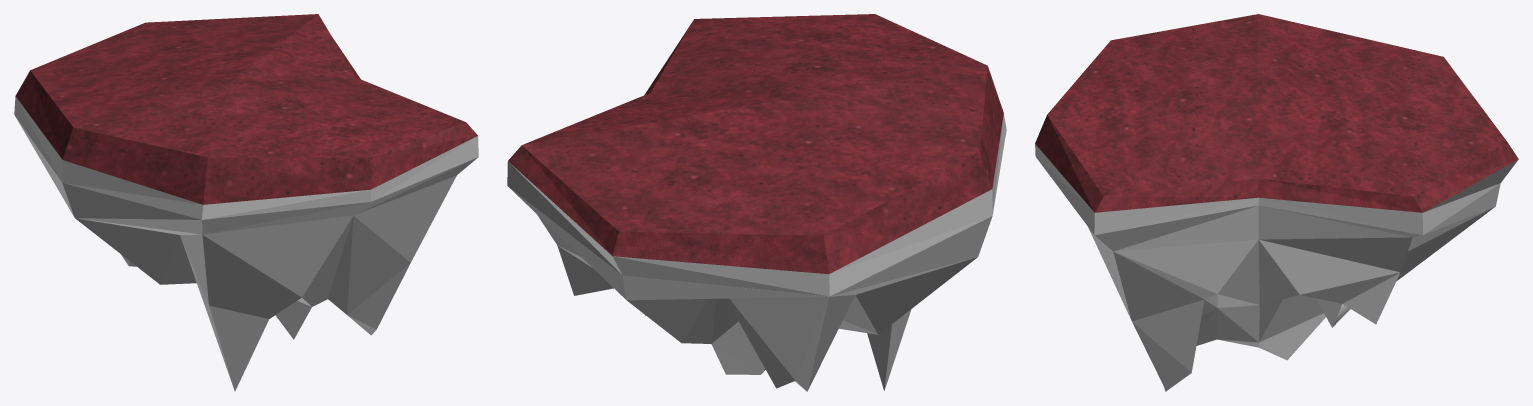
Rendered from z-roche01.FBX.
The picture shows the model from 3 angles, left to right: view 1: azimuth 30°, elevation 25°; view 2: azimuth 150°, elevation 25°; view 3: azimuth 270°, elevation 25°; orthographic projection. The views are drawn at different scales.
Visible parts, largest first — view 1: roche01; view 2: roche01; view 3: roche01.
Part boxes in pixels (x1,y1,x2,y2): roche01: (14, 14, 478, 391); roche01: (507, 14, 1006, 391); roche01: (1035, 14, 1518, 391).
Size of the model in its own units: 367 by 436 by 284.
